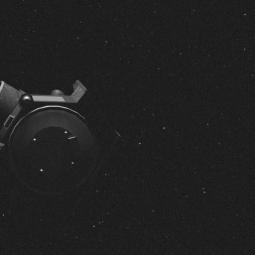cheops: (0, 64, 111, 213)
